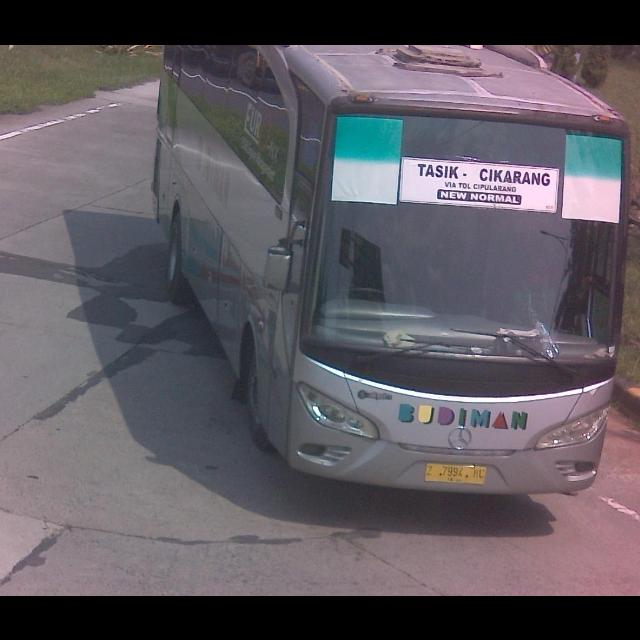plate: (425, 461, 487, 483)
